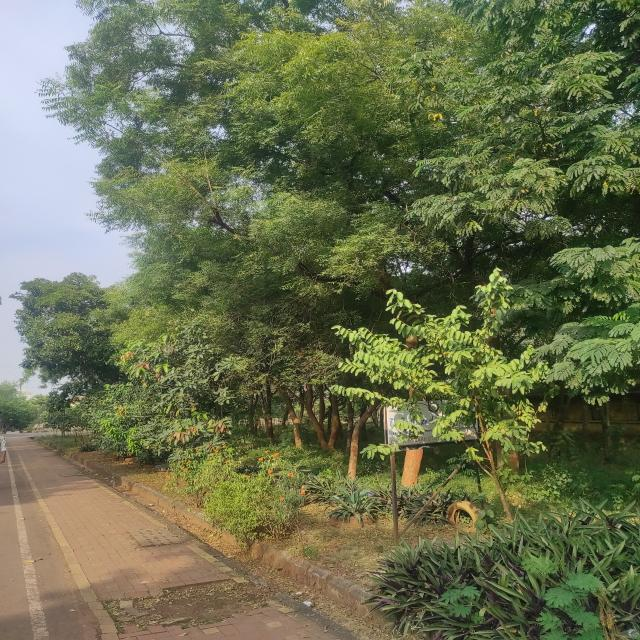Neem Tree: (116, 13, 418, 304)
